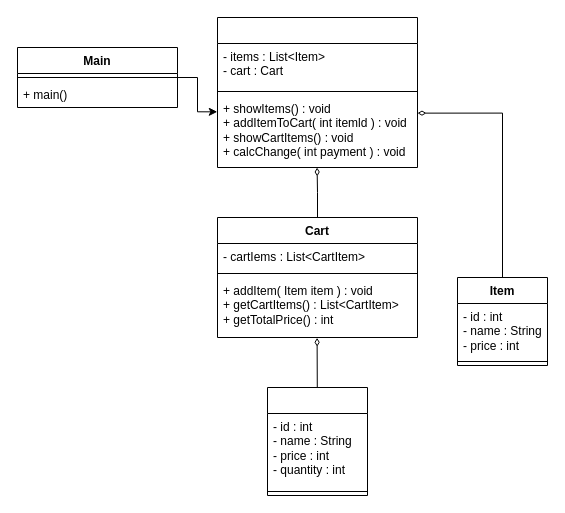
Some shapes in this 565 by 513 pixel diagram are drawn without their labels. The box of each missing label's shape, as (x1, y1, x2, y2) in pixels:
CarItem: (266, 386, 368, 496)
TicketVendor: (216, 16, 418, 168)
